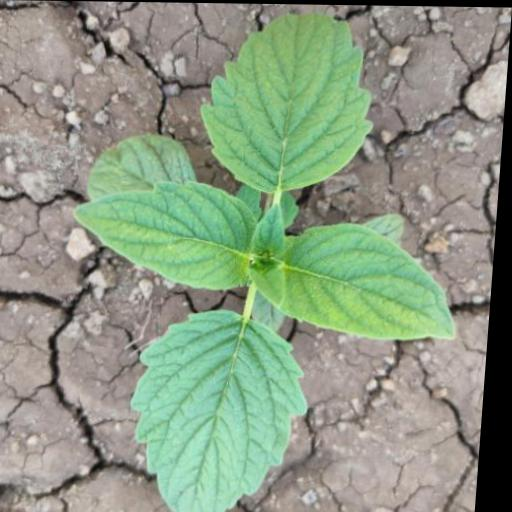crop: (60, 1, 471, 512)
